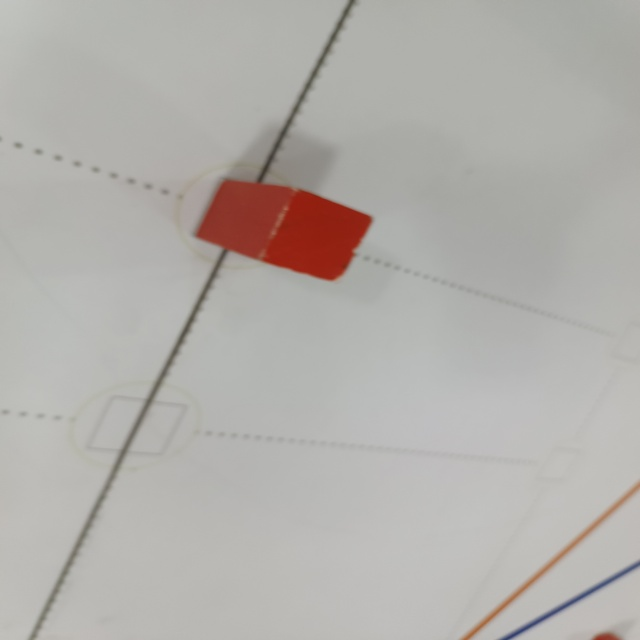blue line: (498, 566, 640, 640)
orange line: (458, 472, 640, 640)
red rectangular prism: (189, 175, 373, 280)
